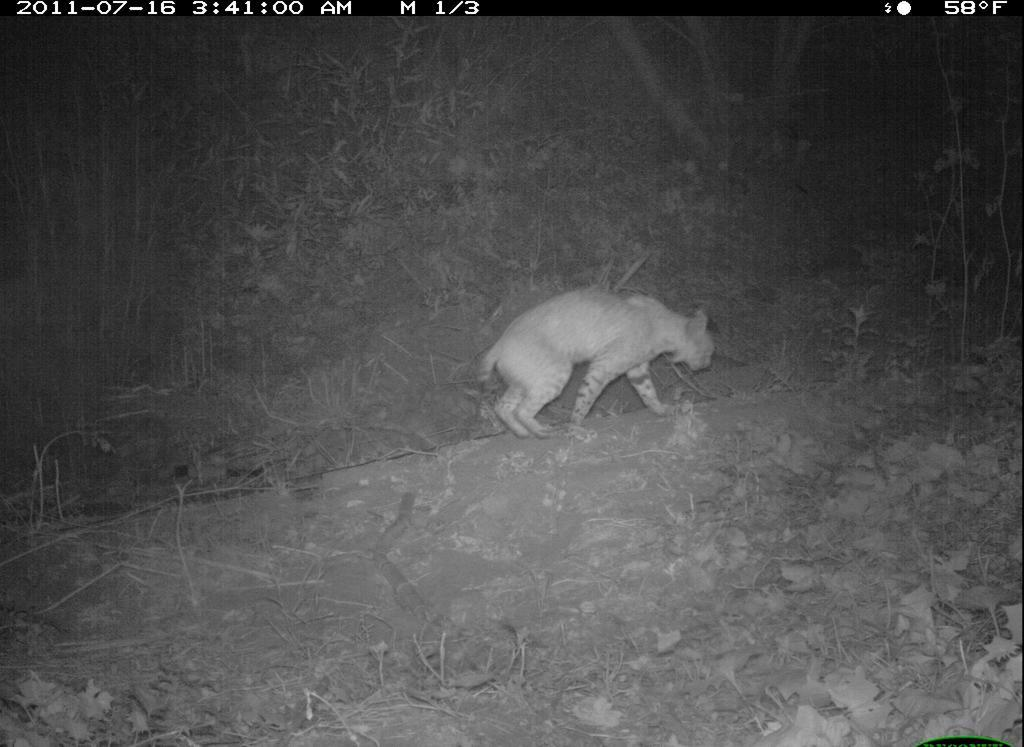bobcat: (467, 283, 726, 449)
